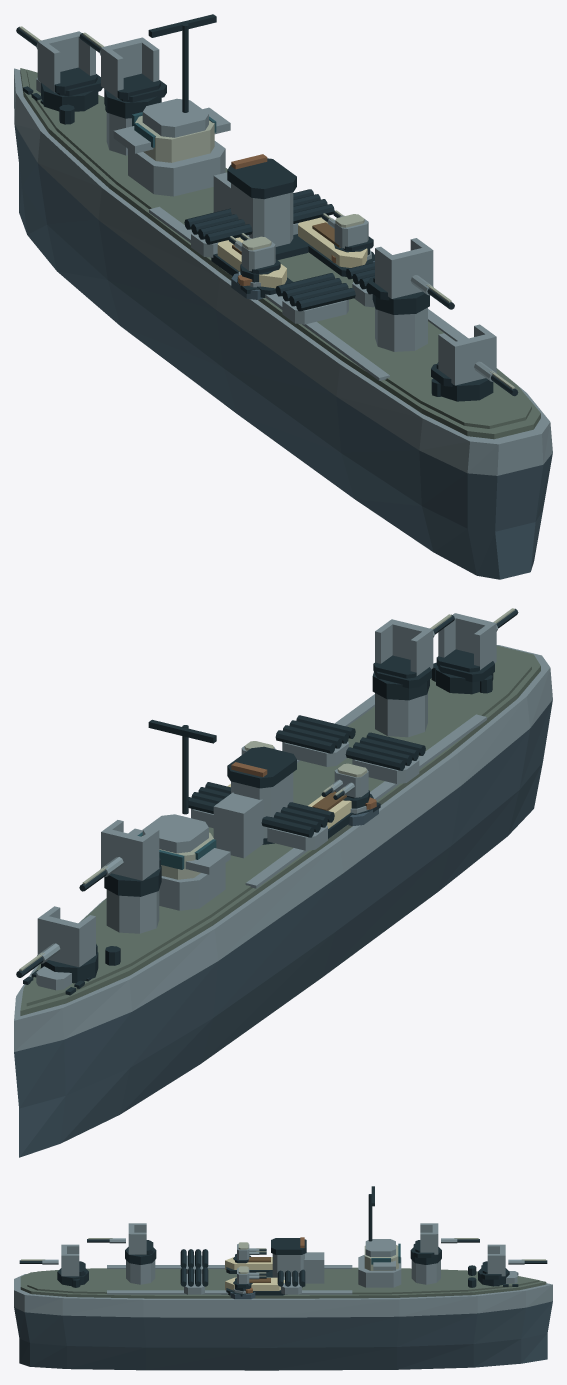
The model's file is historic-bagley.glb.
The picture shows the model from 3 angles, top to bottom: view 1: azimuth 30°, elevation 25°; view 2: azimuth 150°, elevation 25°; view 3: azimuth 270°, elevation 25°; orthographic projection. The views are drawn at different scales.
Parts seen in each view (by area): view 1: historic-bagley-historic-bagley-geometry, historic-bagley-part_bridge.126-geometry, historic-bagley-historic_funnel_0.119-geometry, historic-bagley-turret_main_1.088-geometry, historic-bagley-turret_main_0.095-geometry, historic-bagley-turret_main_2.074-geometry, historic-bagley-turret_main_3.049-geometry, historic-bagley-torpedo_bank_0.035-geometry, historic-bagley-torpedo_bank_2.011-geometry, historic-bagley-turret_aa_aa-port.128-geometry, historic-bagley-turret_aa_aa-starboard.124-geometry, historic-bagley-torpedo_bank_3.007-geometry (+1 smaller); view 2: historic-bagley-historic-bagley-geometry, historic-bagley-part_bridge.126-geometry, historic-bagley-historic_funnel_0.119-geometry, historic-bagley-turret_main_2.074-geometry, historic-bagley-turret_main_3.049-geometry, historic-bagley-turret_main_1.088-geometry, historic-bagley-turret_main_0.095-geometry, historic-bagley-torpedo_bank_1.032-geometry, historic-bagley-torpedo_bank_0.035-geometry, historic-bagley-torpedo_bank_2.011-geometry, historic-bagley-turret_aa_aa-port.128-geometry, historic-bagley-torpedo_bank_3.007-geometry; view 3: historic-bagley-historic-bagley-geometry, historic-bagley-part_bridge.126-geometry, historic-bagley-historic_funnel_0.119-geometry, historic-bagley-turret_main_2.074-geometry, historic-bagley-turret_main_1.088-geometry, historic-bagley-turret_main_0.095-geometry, historic-bagley-turret_main_3.049-geometry, historic-bagley-torpedo_bank_1.032-geometry, historic-bagley-torpedo_bank_3.007-geometry, historic-bagley-torpedo_bank_0.035-geometry, historic-bagley-turret_aa_aa-starboard.124-geometry, historic-bagley-turret_aa_aa-port.128-geometry.
Part boxes in pixels (bbox=[...]): historic-bagley-historic-bagley-geometry: bbox=[14, 68, 552, 579]; historic-bagley-part_bridge.126-geometry: bbox=[113, 14, 230, 196]; historic-bagley-historic_funnel_0.119-geometry: bbox=[213, 154, 308, 260]; historic-bagley-turret_main_1.088-geometry: bbox=[79, 32, 166, 118]; historic-bagley-turret_main_0.095-geometry: bbox=[16, 26, 102, 111]; historic-bagley-turret_main_2.074-geometry: bbox=[367, 238, 454, 314]; historic-bagley-turret_main_3.049-geometry: bbox=[431, 324, 518, 401]; historic-bagley-torpedo_bank_0.035-geometry: bbox=[275, 273, 355, 324]; historic-bagley-torpedo_bank_2.011-geometry: bbox=[184, 208, 252, 257]; historic-bagley-turret_aa_aa-port.128-geometry: bbox=[228, 233, 280, 282]; historic-bagley-turret_aa_aa-starboard.124-geometry: bbox=[321, 210, 373, 254]; historic-bagley-torpedo_bank_3.007-geometry: bbox=[293, 189, 334, 234]; historic-bagley-historic-bagley-geometry: bbox=[14, 645, 552, 1157]; historic-bagley-part_bridge.126-geometry: bbox=[128, 719, 230, 910]; historic-bagley-historic_funnel_0.119-geometry: bbox=[213, 746, 296, 858]; historic-bagley-turret_main_2.074-geometry: bbox=[372, 614, 454, 700]; historic-bagley-turret_main_3.049-geometry: bbox=[436, 608, 518, 694]; historic-bagley-turret_main_1.088-geometry: bbox=[79, 820, 161, 896]; historic-bagley-turret_main_0.095-geometry: bbox=[16, 906, 98, 983]; historic-bagley-torpedo_bank_1.032-geometry: bbox=[275, 715, 355, 766]; historic-bagley-torpedo_bank_0.035-geometry: bbox=[345, 732, 425, 783]; historic-bagley-torpedo_bank_2.011-geometry: bbox=[261, 802, 334, 850]; historic-bagley-turret_aa_aa-port.128-geometry: bbox=[321, 763, 369, 808]; historic-bagley-torpedo_bank_3.007-geometry: bbox=[188, 782, 230, 828]; historic-bagley-historic-bagley-geometry: bbox=[14, 1257, 552, 1370]; historic-bagley-part_bridge.126-geometry: bbox=[358, 1186, 401, 1287]; historic-bagley-historic_funnel_0.119-geometry: bbox=[266, 1237, 324, 1287]; historic-bagley-turret_main_2.074-geometry: bbox=[87, 1223, 156, 1264]; historic-bagley-turret_main_1.088-geometry: bbox=[410, 1223, 479, 1264]; historic-bagley-turret_main_0.095-geometry: bbox=[478, 1244, 547, 1286]; historic-bagley-turret_main_3.049-geometry: bbox=[19, 1244, 88, 1286]; historic-bagley-torpedo_bank_1.032-geometry: bbox=[180, 1267, 208, 1294]; historic-bagley-torpedo_bank_3.007-geometry: bbox=[277, 1269, 305, 1294]; historic-bagley-torpedo_bank_0.035-geometry: bbox=[180, 1249, 208, 1273]; historic-bagley-turret_aa_aa-starboard.124-geometry: bbox=[233, 1266, 266, 1291]; historic-bagley-turret_aa_aa-port.128-geometry: bbox=[233, 1242, 266, 1263].
Size of the model in its own units: 0.6316 by 1.39 by 4.11.
